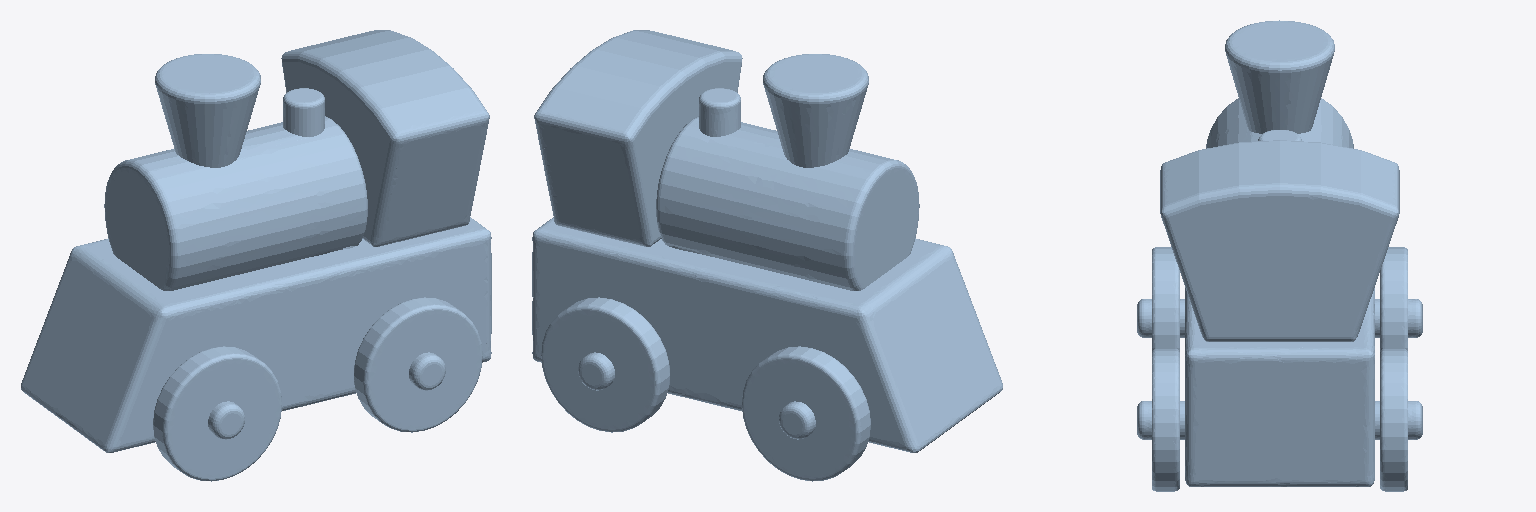
robot.urdf — train.urdf:
<?xml version="1.0" ?>
<robot name="train.urdf">
  <dynamics damping="0.5" friction="0.9"/>
  <link name="baseLink">
    <contact>
      <lateral_friction value="0.9"/>
      <rolling_friction value="0.5"/>
      <stiffness value="30000"/>
      <damping value="1000"/>
    </contact>
    <visual>
      <origin rpy="0 0 0" xyz="0 0 0"/>
      <geometry>
        <mesh filename="train/train.obj" scale="1.0 1.0 1.0"/>
      </geometry>
       <material name="mat">
        <color rgba="0.7 0.8 0.9 1"/>
      </material>
    </visual>
    <collision>
      <origin rpy="0 0 0" xyz="0 0 0"/>
      <geometry>
	 	<mesh filename="train/train.obj" scale="1.0 1.0 1.0"/>
      </geometry>
    </collision>
  </link>
</robot>

--- What the picture shows (computed from the rendered views, not written in the file) ---
Views: 3 orthographic renders of the robot side by side, from view 1: azimuth 30°, elevation 25°; view 2: azimuth 150°, elevation 25°; view 3: azimuth 270°, elevation 25°.
Robot: train.urdf — 1 links, 0 joints (none); root link baseLink; default pose: every joint at zero.
Links seen in each view (by area): view 1: baseLink; view 2: baseLink; view 3: baseLink.
Boxes of the visible links, x1,y1,x2,y2 form: baseLink: (21, 30, 491, 481); baseLink: (532, 30, 1002, 481); baseLink: (1137, 20, 1422, 491).
Size in the robot's own frame: 0.097 by 0.0598 by 0.0842 metres.
1 mesh visuals loaded from 1 distinct referenced files (1 OBJ).
